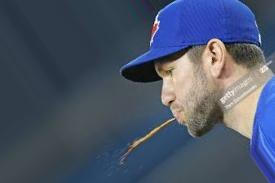spitting: (91, 0, 275, 180)
